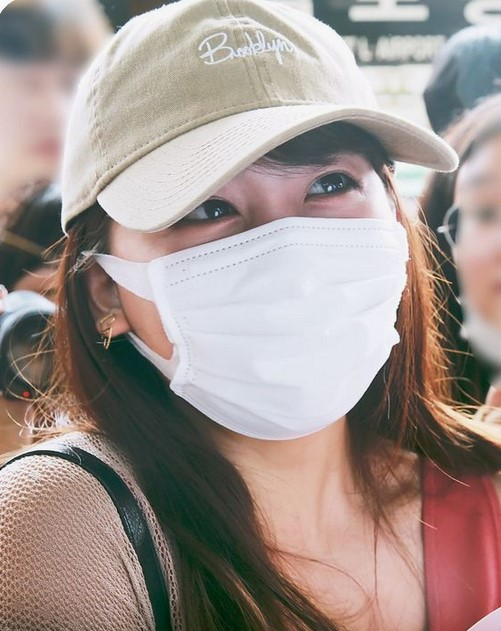face_with_mask: (61, 8, 438, 442)
